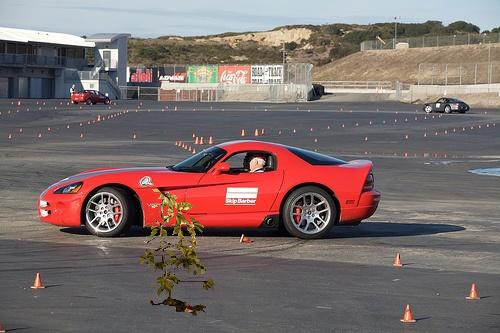tampered: (140, 190, 214, 316)
